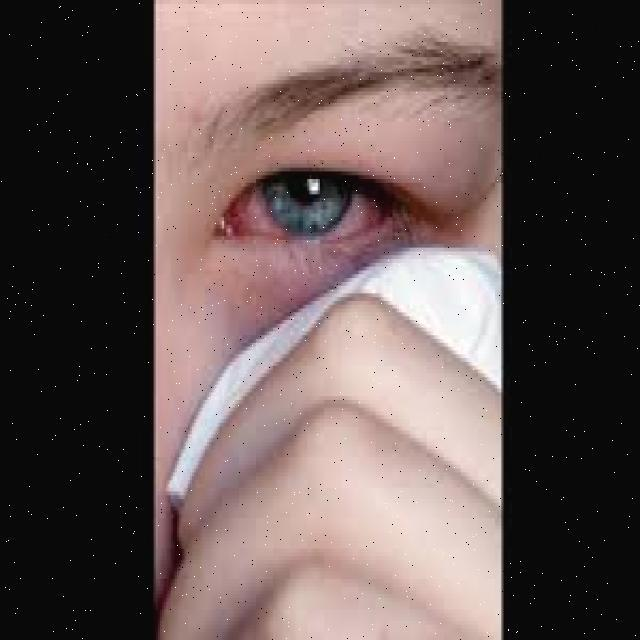Conjunctivitis: (220, 179, 388, 236)
